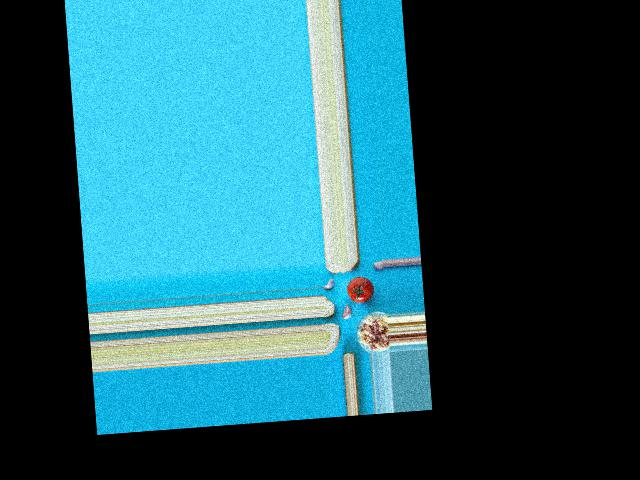tomato: (346, 275, 375, 302)
